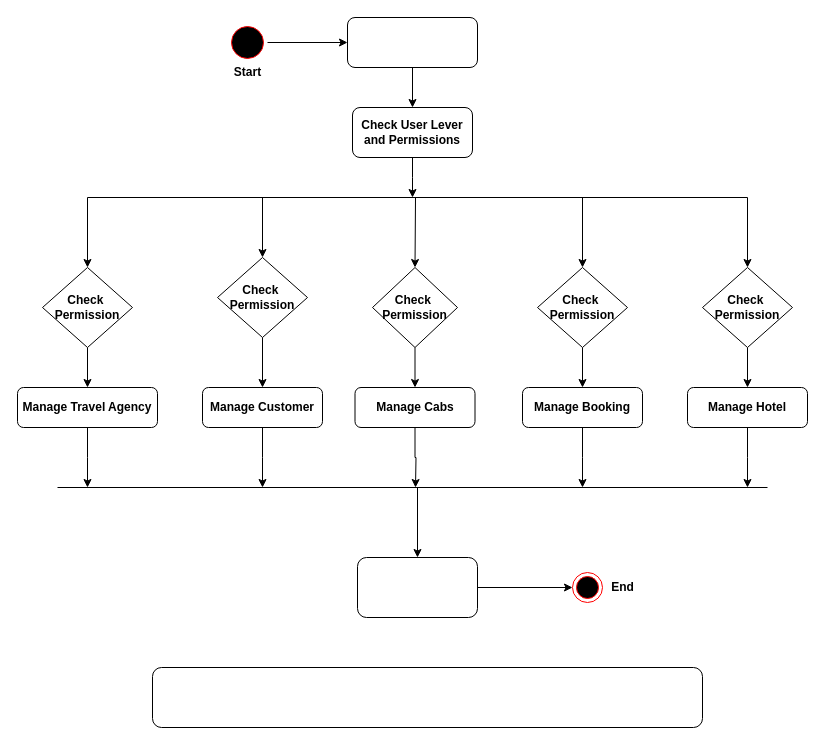
The diagram is 825 pixels wide and 745 high, and some of its shapes have lost their labels. The centre of each missing label's shape, as x and y in pixels:
"Activity Diagram for Travel Management System" belongs at (x=427, y=697).
"Login to the travel Management System" belongs at (x=412, y=42).
"Logout From the System" belongs at (x=417, y=587).
